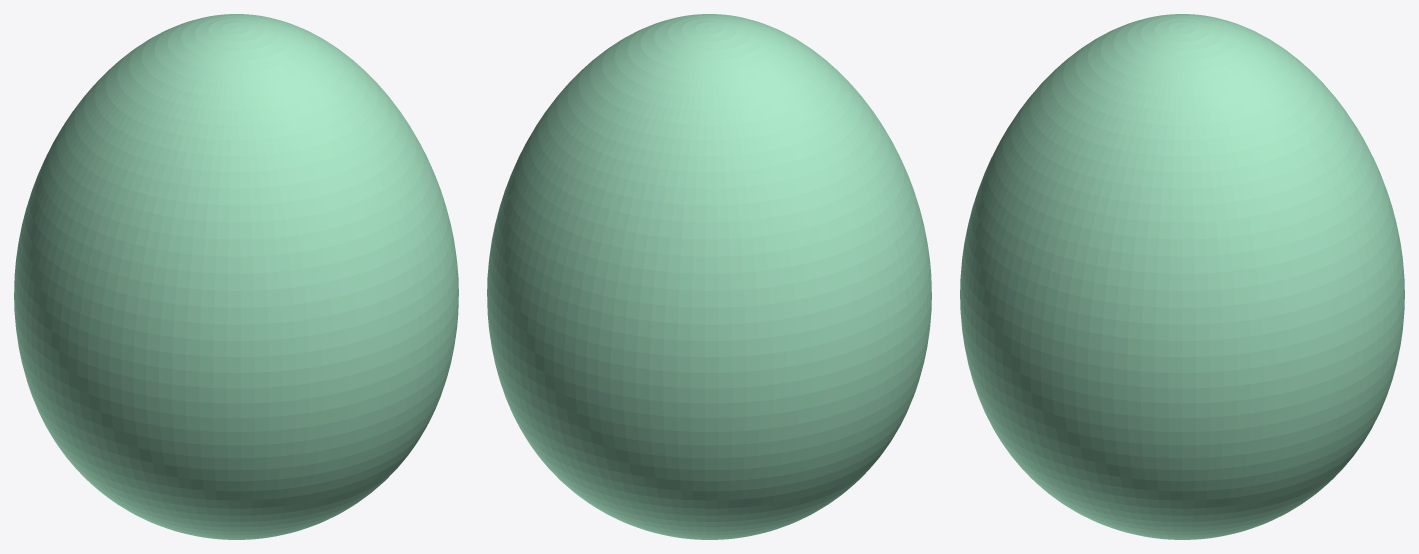
The model's file is Egg.fbx.
3 views of the same model, side by side, from view 1: azimuth 30°, elevation 25°; view 2: azimuth 150°, elevation 25°; view 3: azimuth 270°, elevation 25° (orthographic).
Parts seen in each view (by area): view 1: Sphere; view 2: Sphere; view 3: Sphere.
Boxes of the visible parts, box(x1,y1,x2,y2) form: Sphere: box(14, 14, 458, 539); Sphere: box(487, 14, 931, 539); Sphere: box(960, 14, 1404, 539).
Size of the model in its own units: 200 by 244 by 200.
